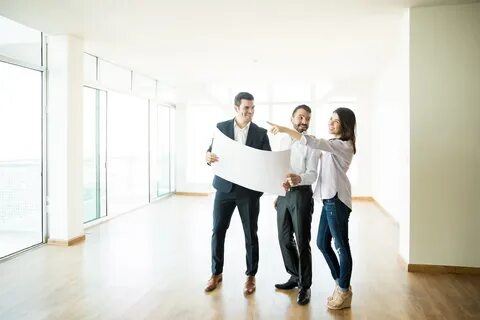awake: (204, 91, 270, 296), (275, 104, 320, 306), (316, 108, 356, 308)
